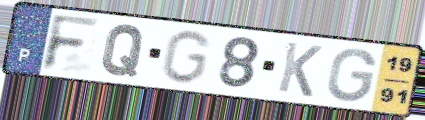8: (217, 36, 262, 91)
F: (39, 12, 103, 73)
G: (158, 29, 214, 86), (325, 47, 379, 104)
K: (275, 39, 325, 99)
Q: (99, 23, 148, 79)
